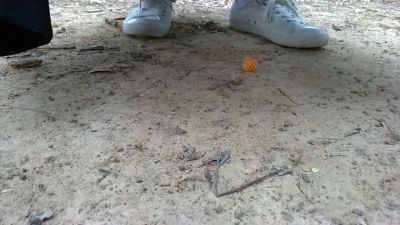eggs: (242, 54, 259, 73)
